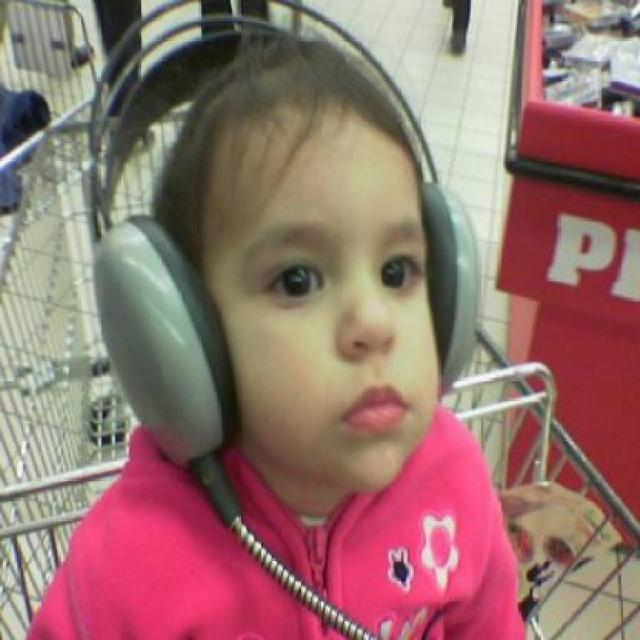earphone: (89, 0, 493, 413)
